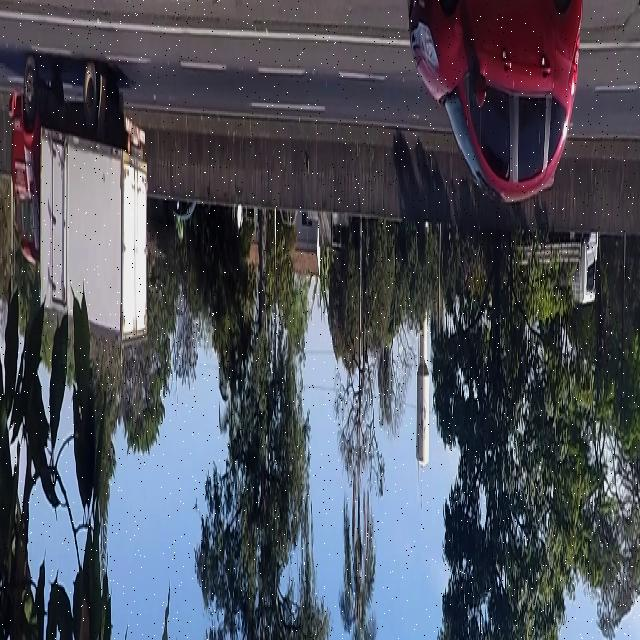-axle: (22, 48, 36, 126), (84, 53, 98, 128)
